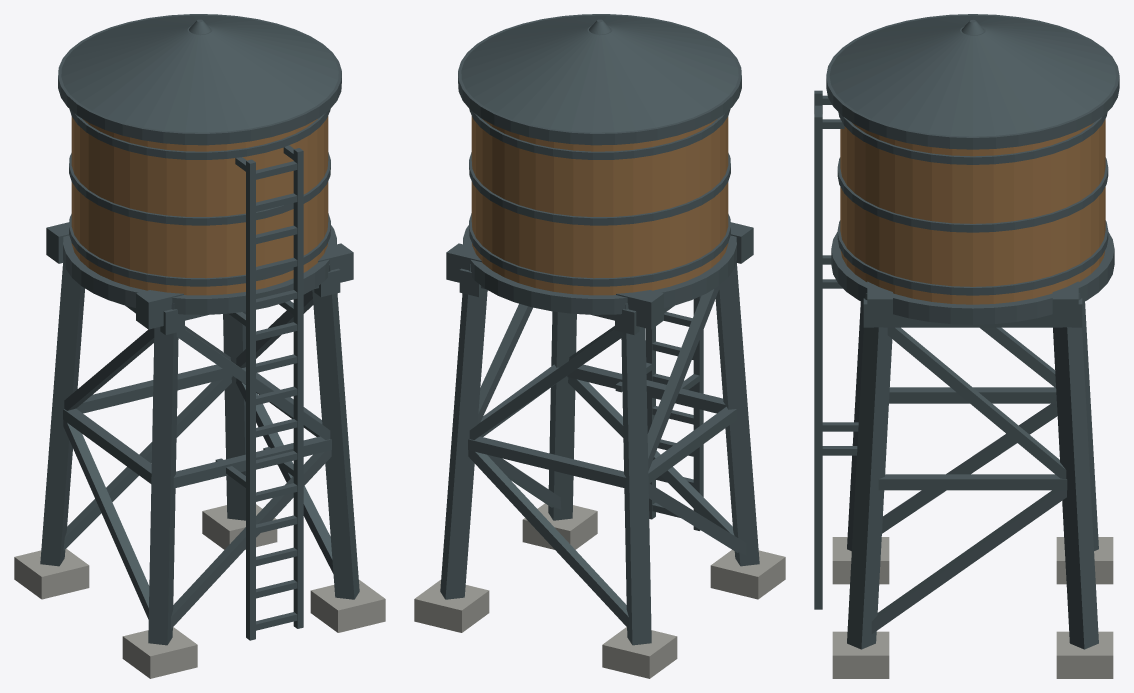
File: NEW_RECOVERY_116_LOD0.fbx
3 renders of one model, left to right at view 1: azimuth 30°, elevation 25°; view 2: azimuth 150°, elevation 25°; view 3: azimuth 270°, elevation 25°, orthographic. The views are drawn at different scales.
Visible parts, largest first — view 1: WaterTowerSolid; view 2: WaterTowerSolid; view 3: WaterTowerSolid.
Boxes of the visible parts, x1=… form: WaterTowerSolid: x1=14, y1=14, x2=385, y2=678; WaterTowerSolid: x1=414, y1=14, x2=785, y2=678; WaterTowerSolid: x1=814, y1=14, x2=1119, y2=678.
Size of the model in its own units: 228 by 237 by 513.
